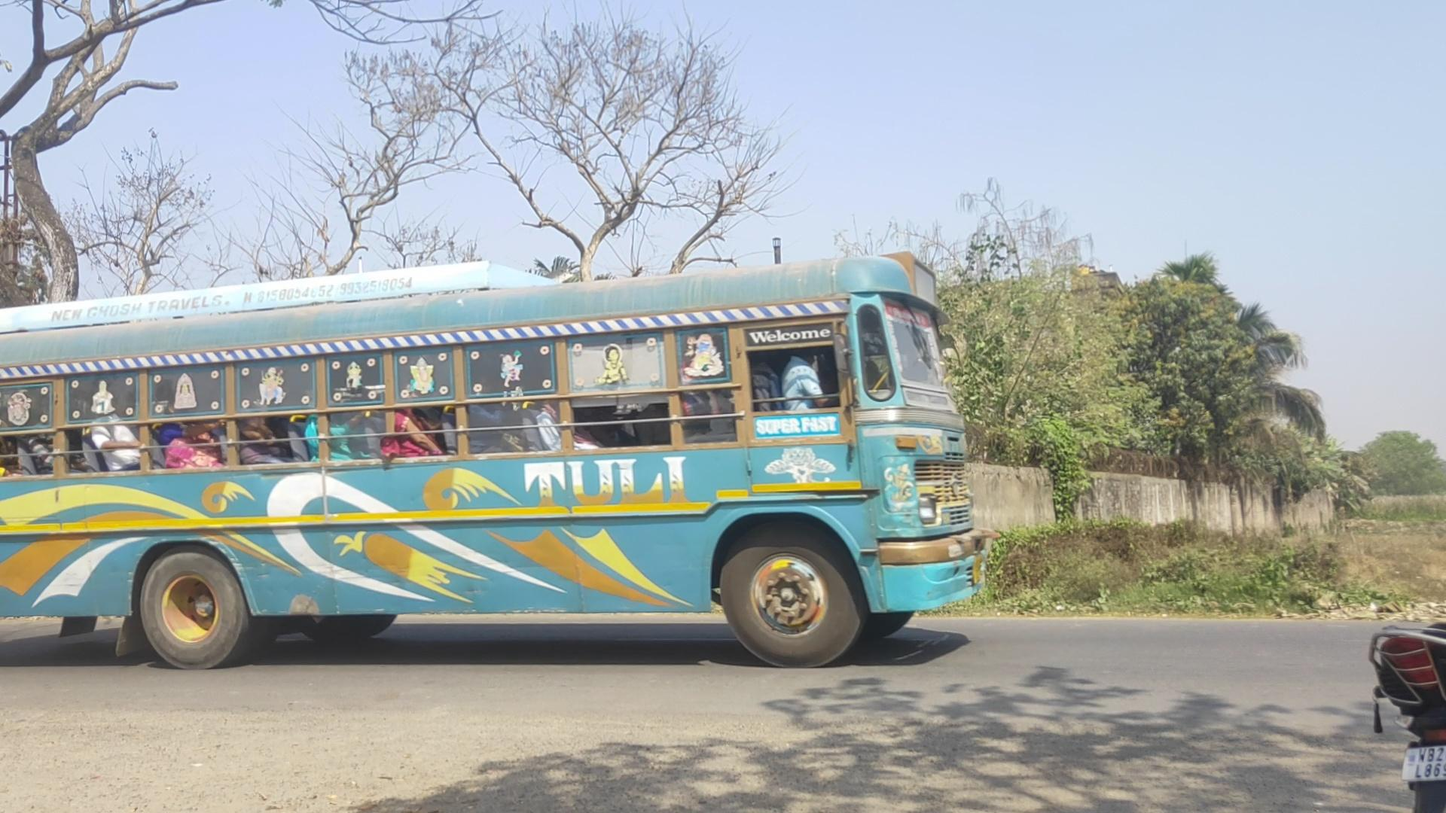Bus: (2, 260, 1001, 668)
